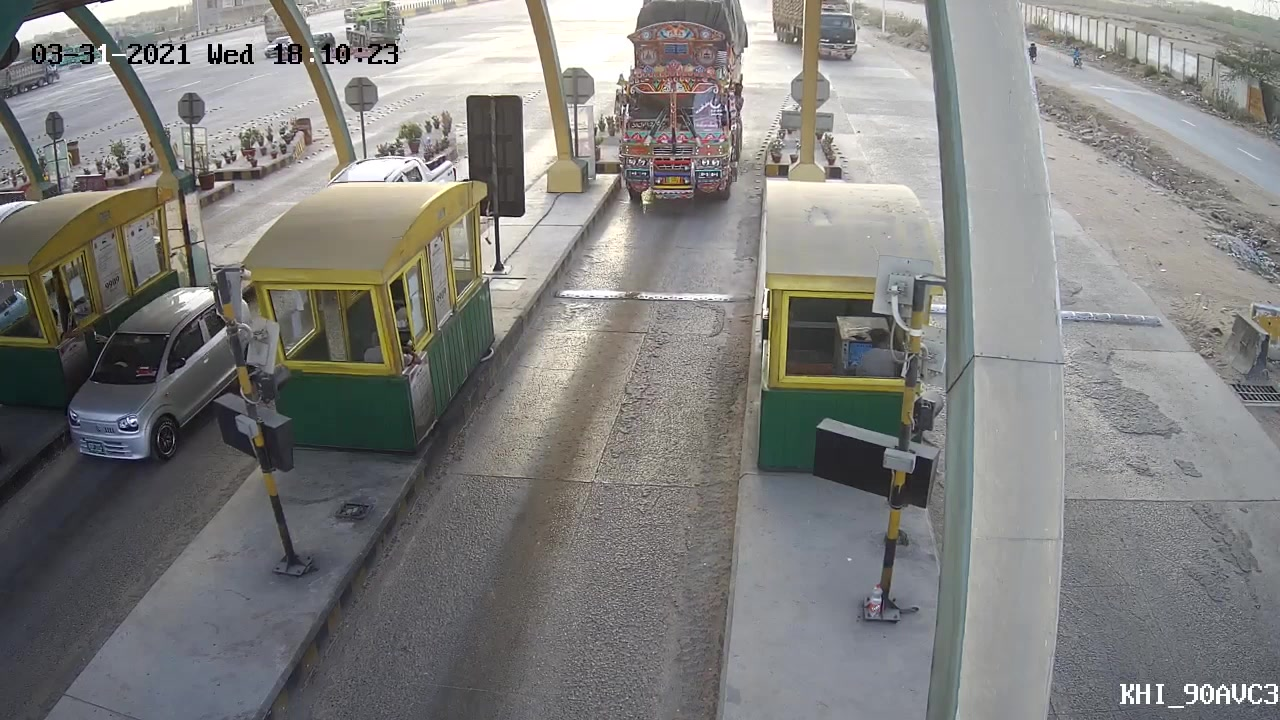F5: (603, 3, 760, 213)
